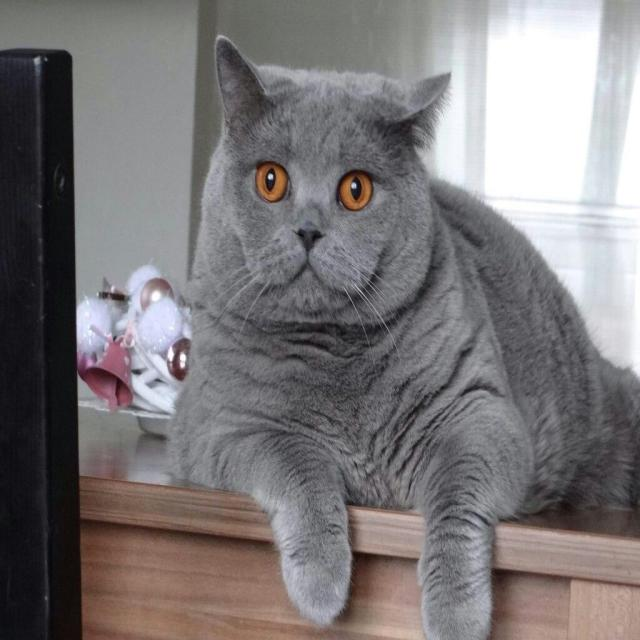british shorthair: (0, 30, 640, 610)
